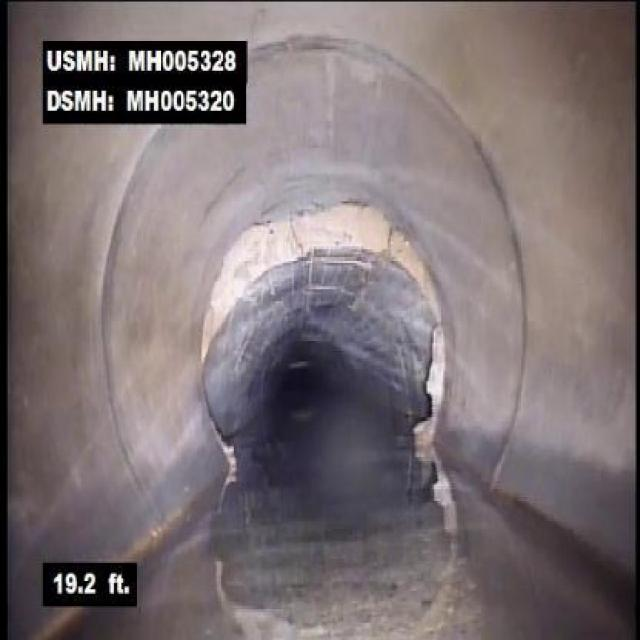Joint offset: (211, 195, 435, 298), (189, 298, 240, 380)
